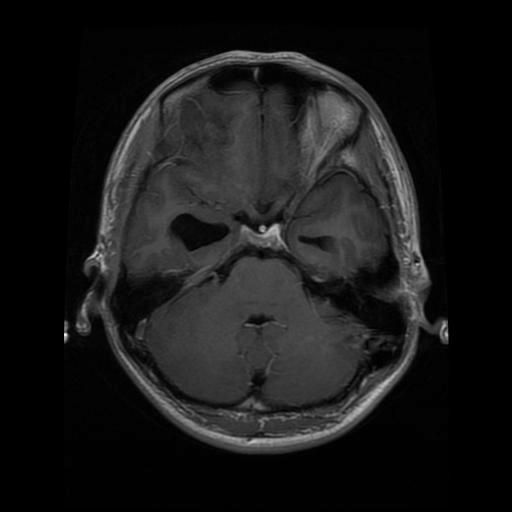Tumour-Glioma: (300, 90, 380, 170)
